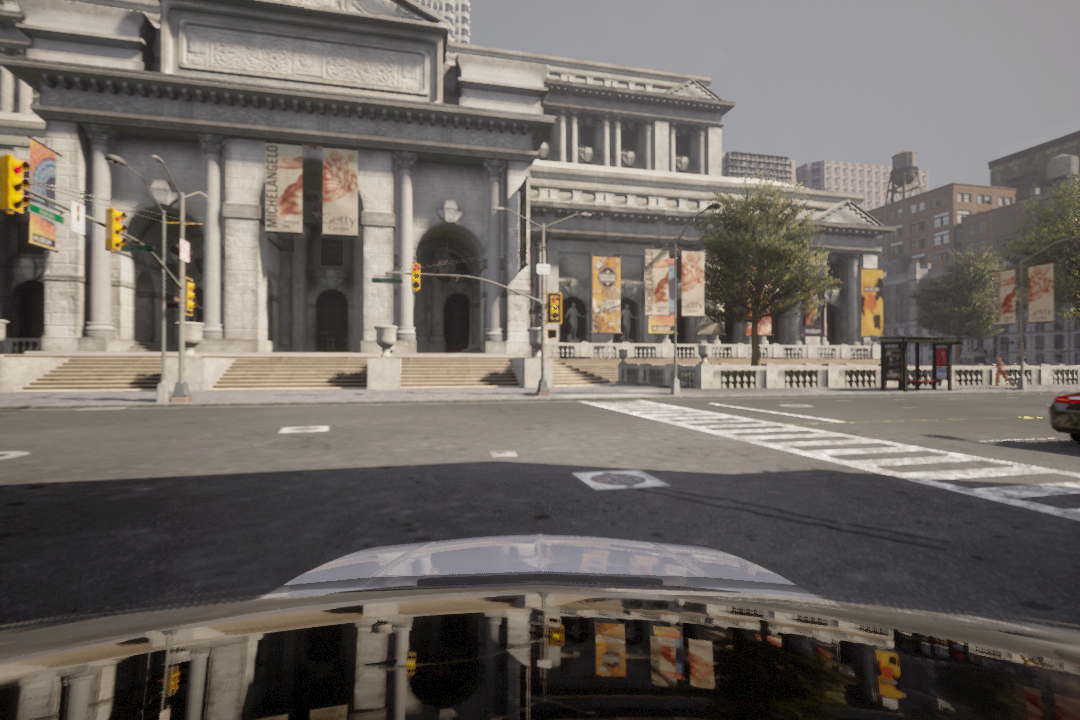TrafficLight: (4, 157, 28, 218), (102, 207, 127, 258), (182, 279, 201, 317), (548, 293, 563, 324), (410, 263, 423, 293)
walkside: (583, 397, 1080, 531)
